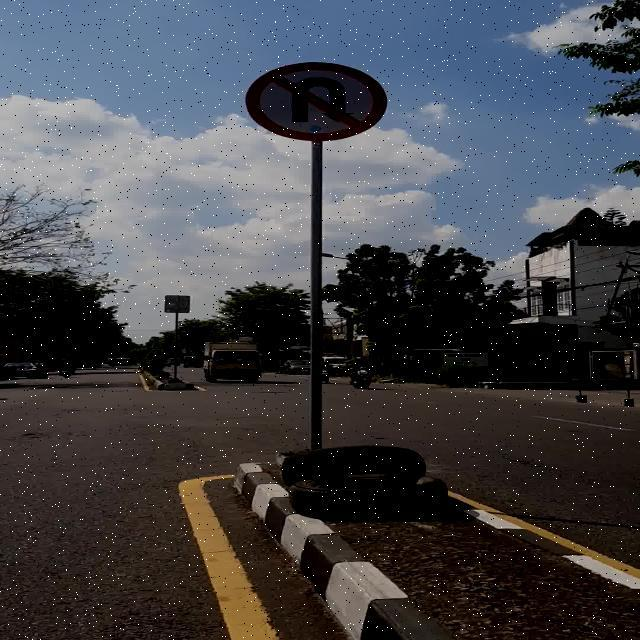Dilarang Putar Balik: (245, 62, 388, 142)
